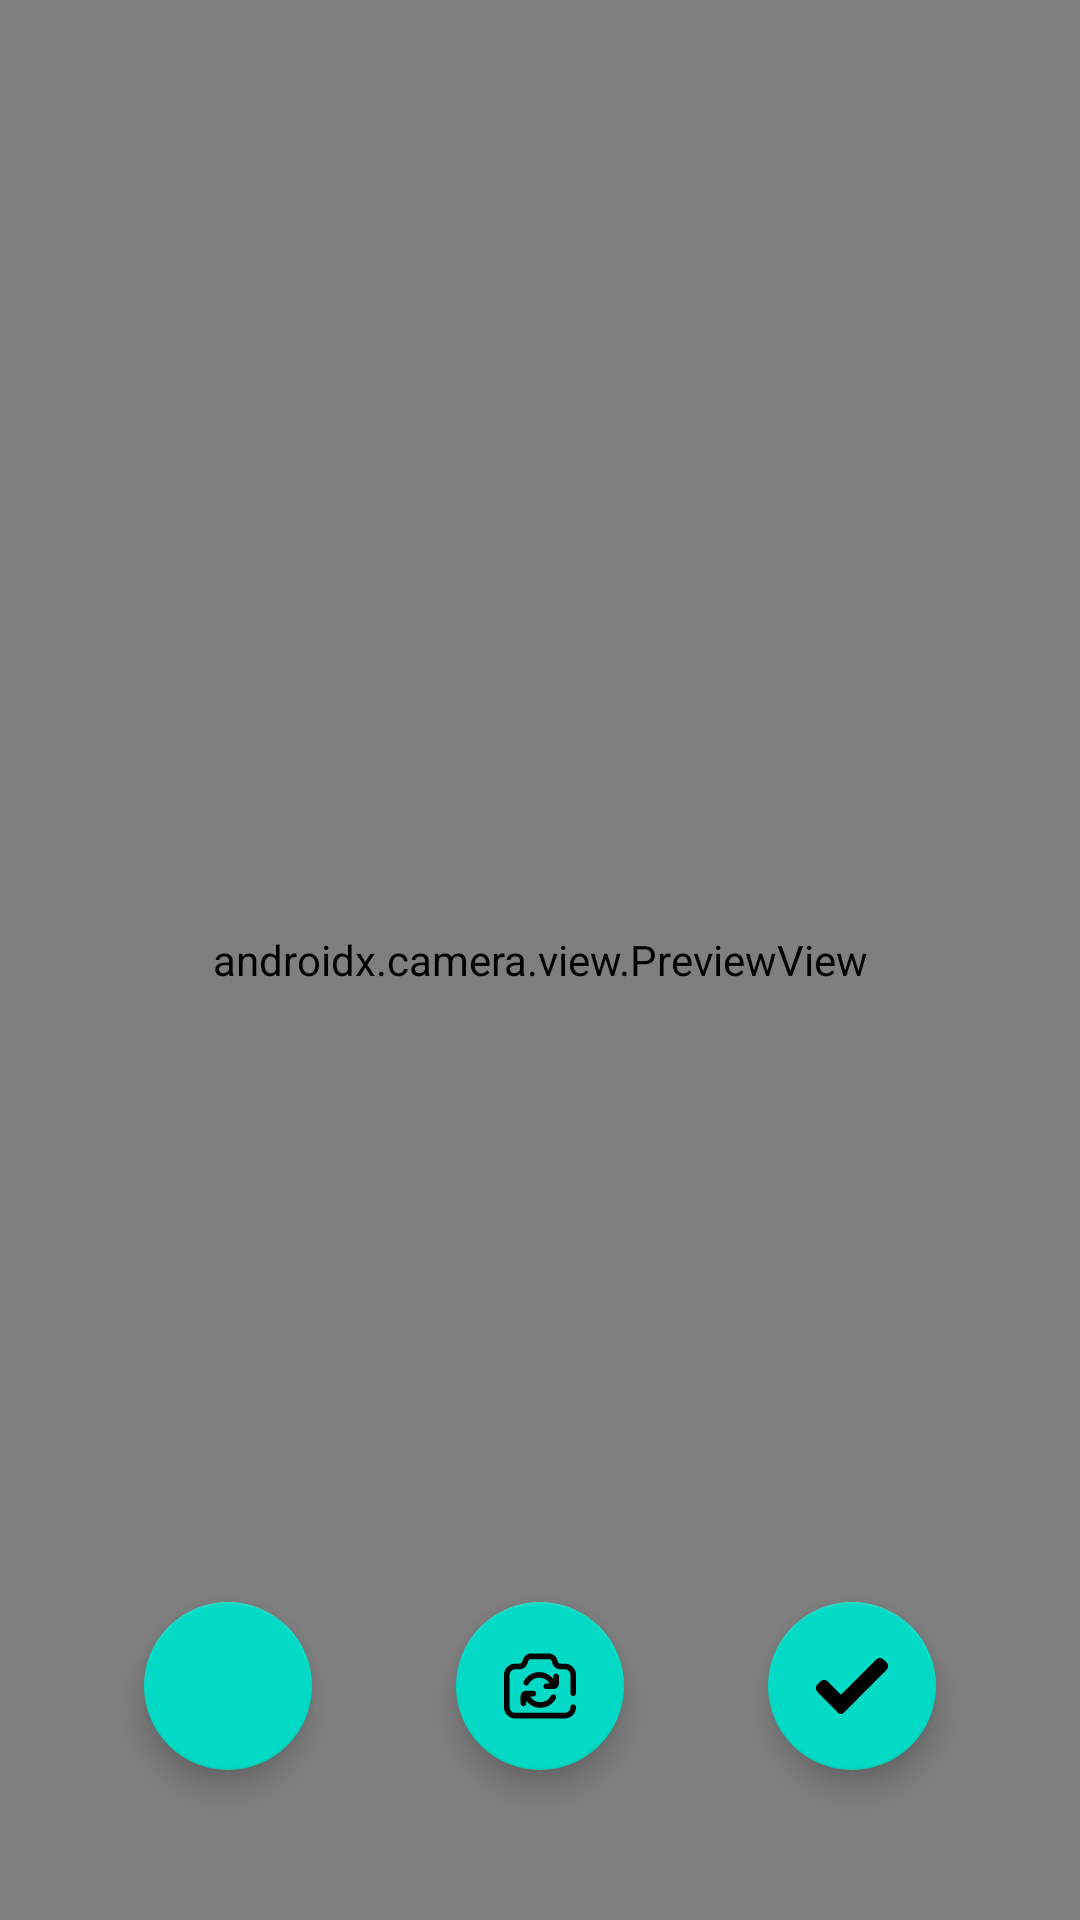

Icons on this 1080px×1920px Android screen, each with its box as (x1, y1, x2, y2):
check: (768, 1602, 936, 1770)
switch camera: (456, 1602, 624, 1770)
